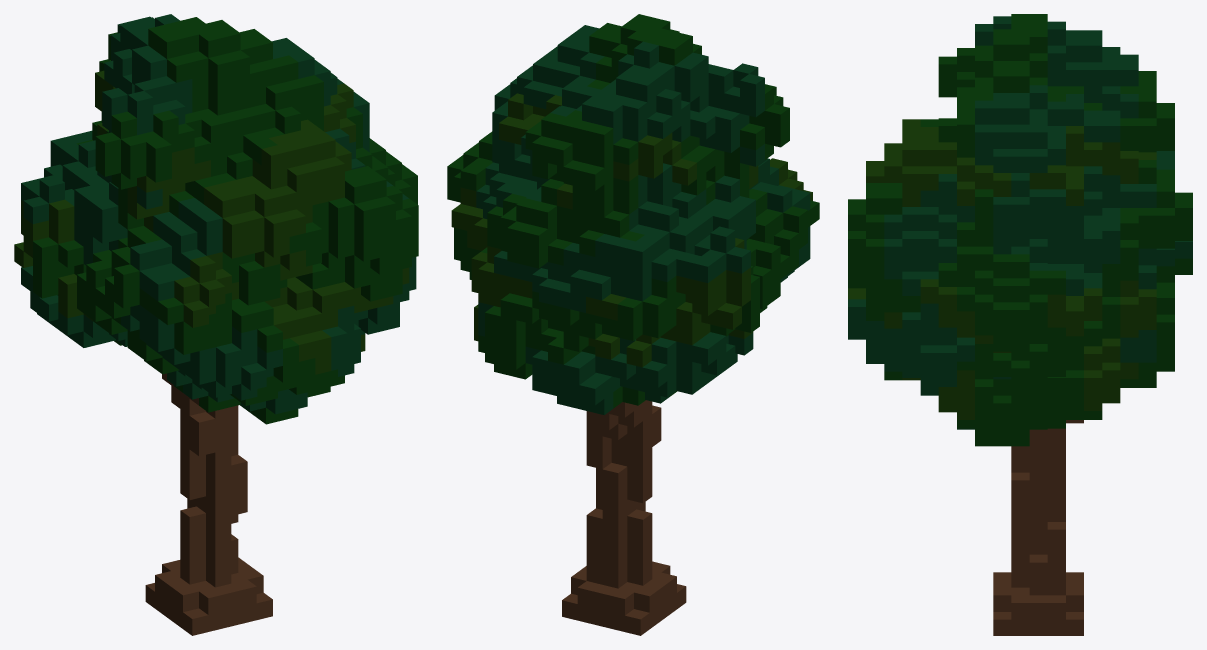
Rendered from TestTree.obj.
The picture shows the model from 3 angles, left to right: view 1: azimuth 30°, elevation 25°; view 2: azimuth 150°, elevation 25°; view 3: azimuth 270°, elevation 25°; orthographic projection. The views are drawn at different scales.
Size of the model in its own units: 21 by 35 by 19.
Materials: 1 (1 with a texture image).
